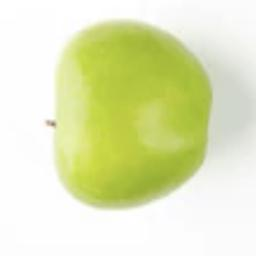Apple Unripe: (6, 12, 255, 238)
